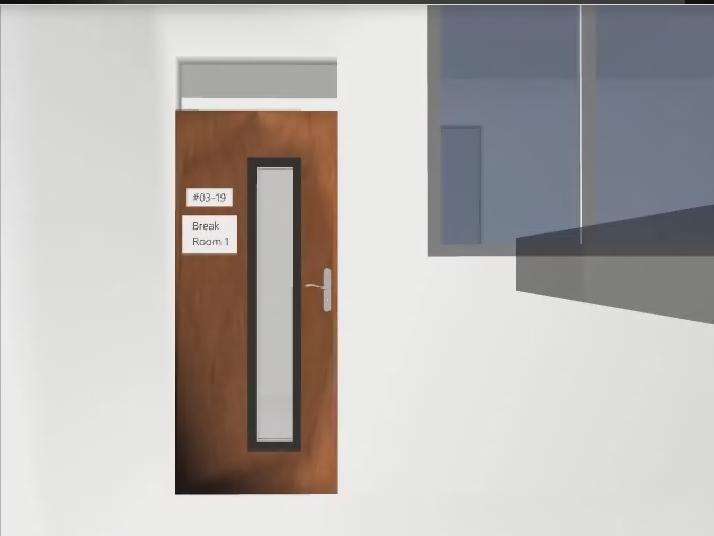door: (176, 111, 338, 494)
